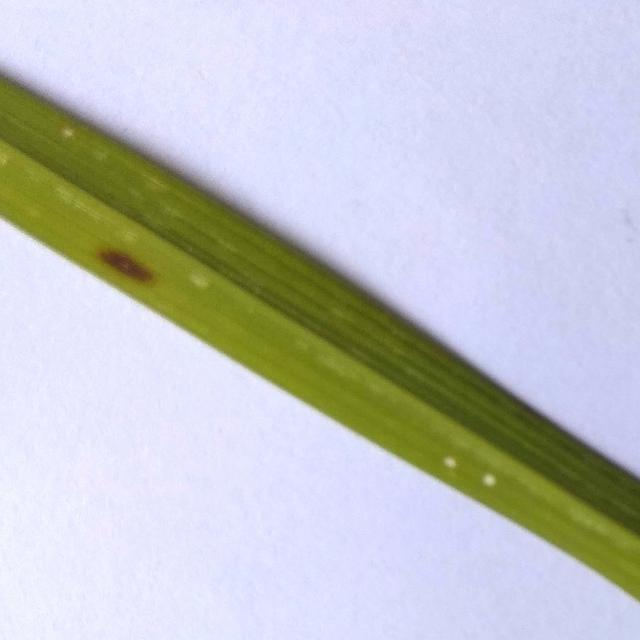brownspots: (85, 228, 180, 306)
